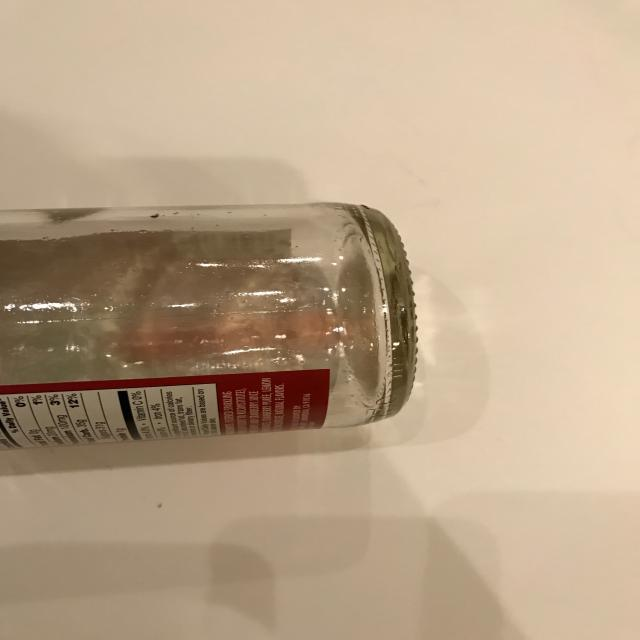glass: (1, 202, 422, 453)
